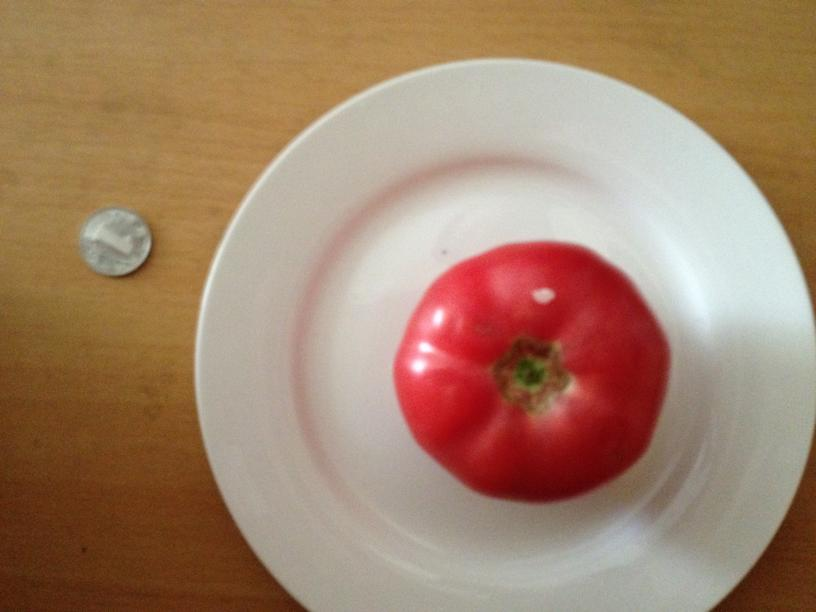coin: (75, 203, 152, 278)
tomato: (393, 237, 669, 503)
